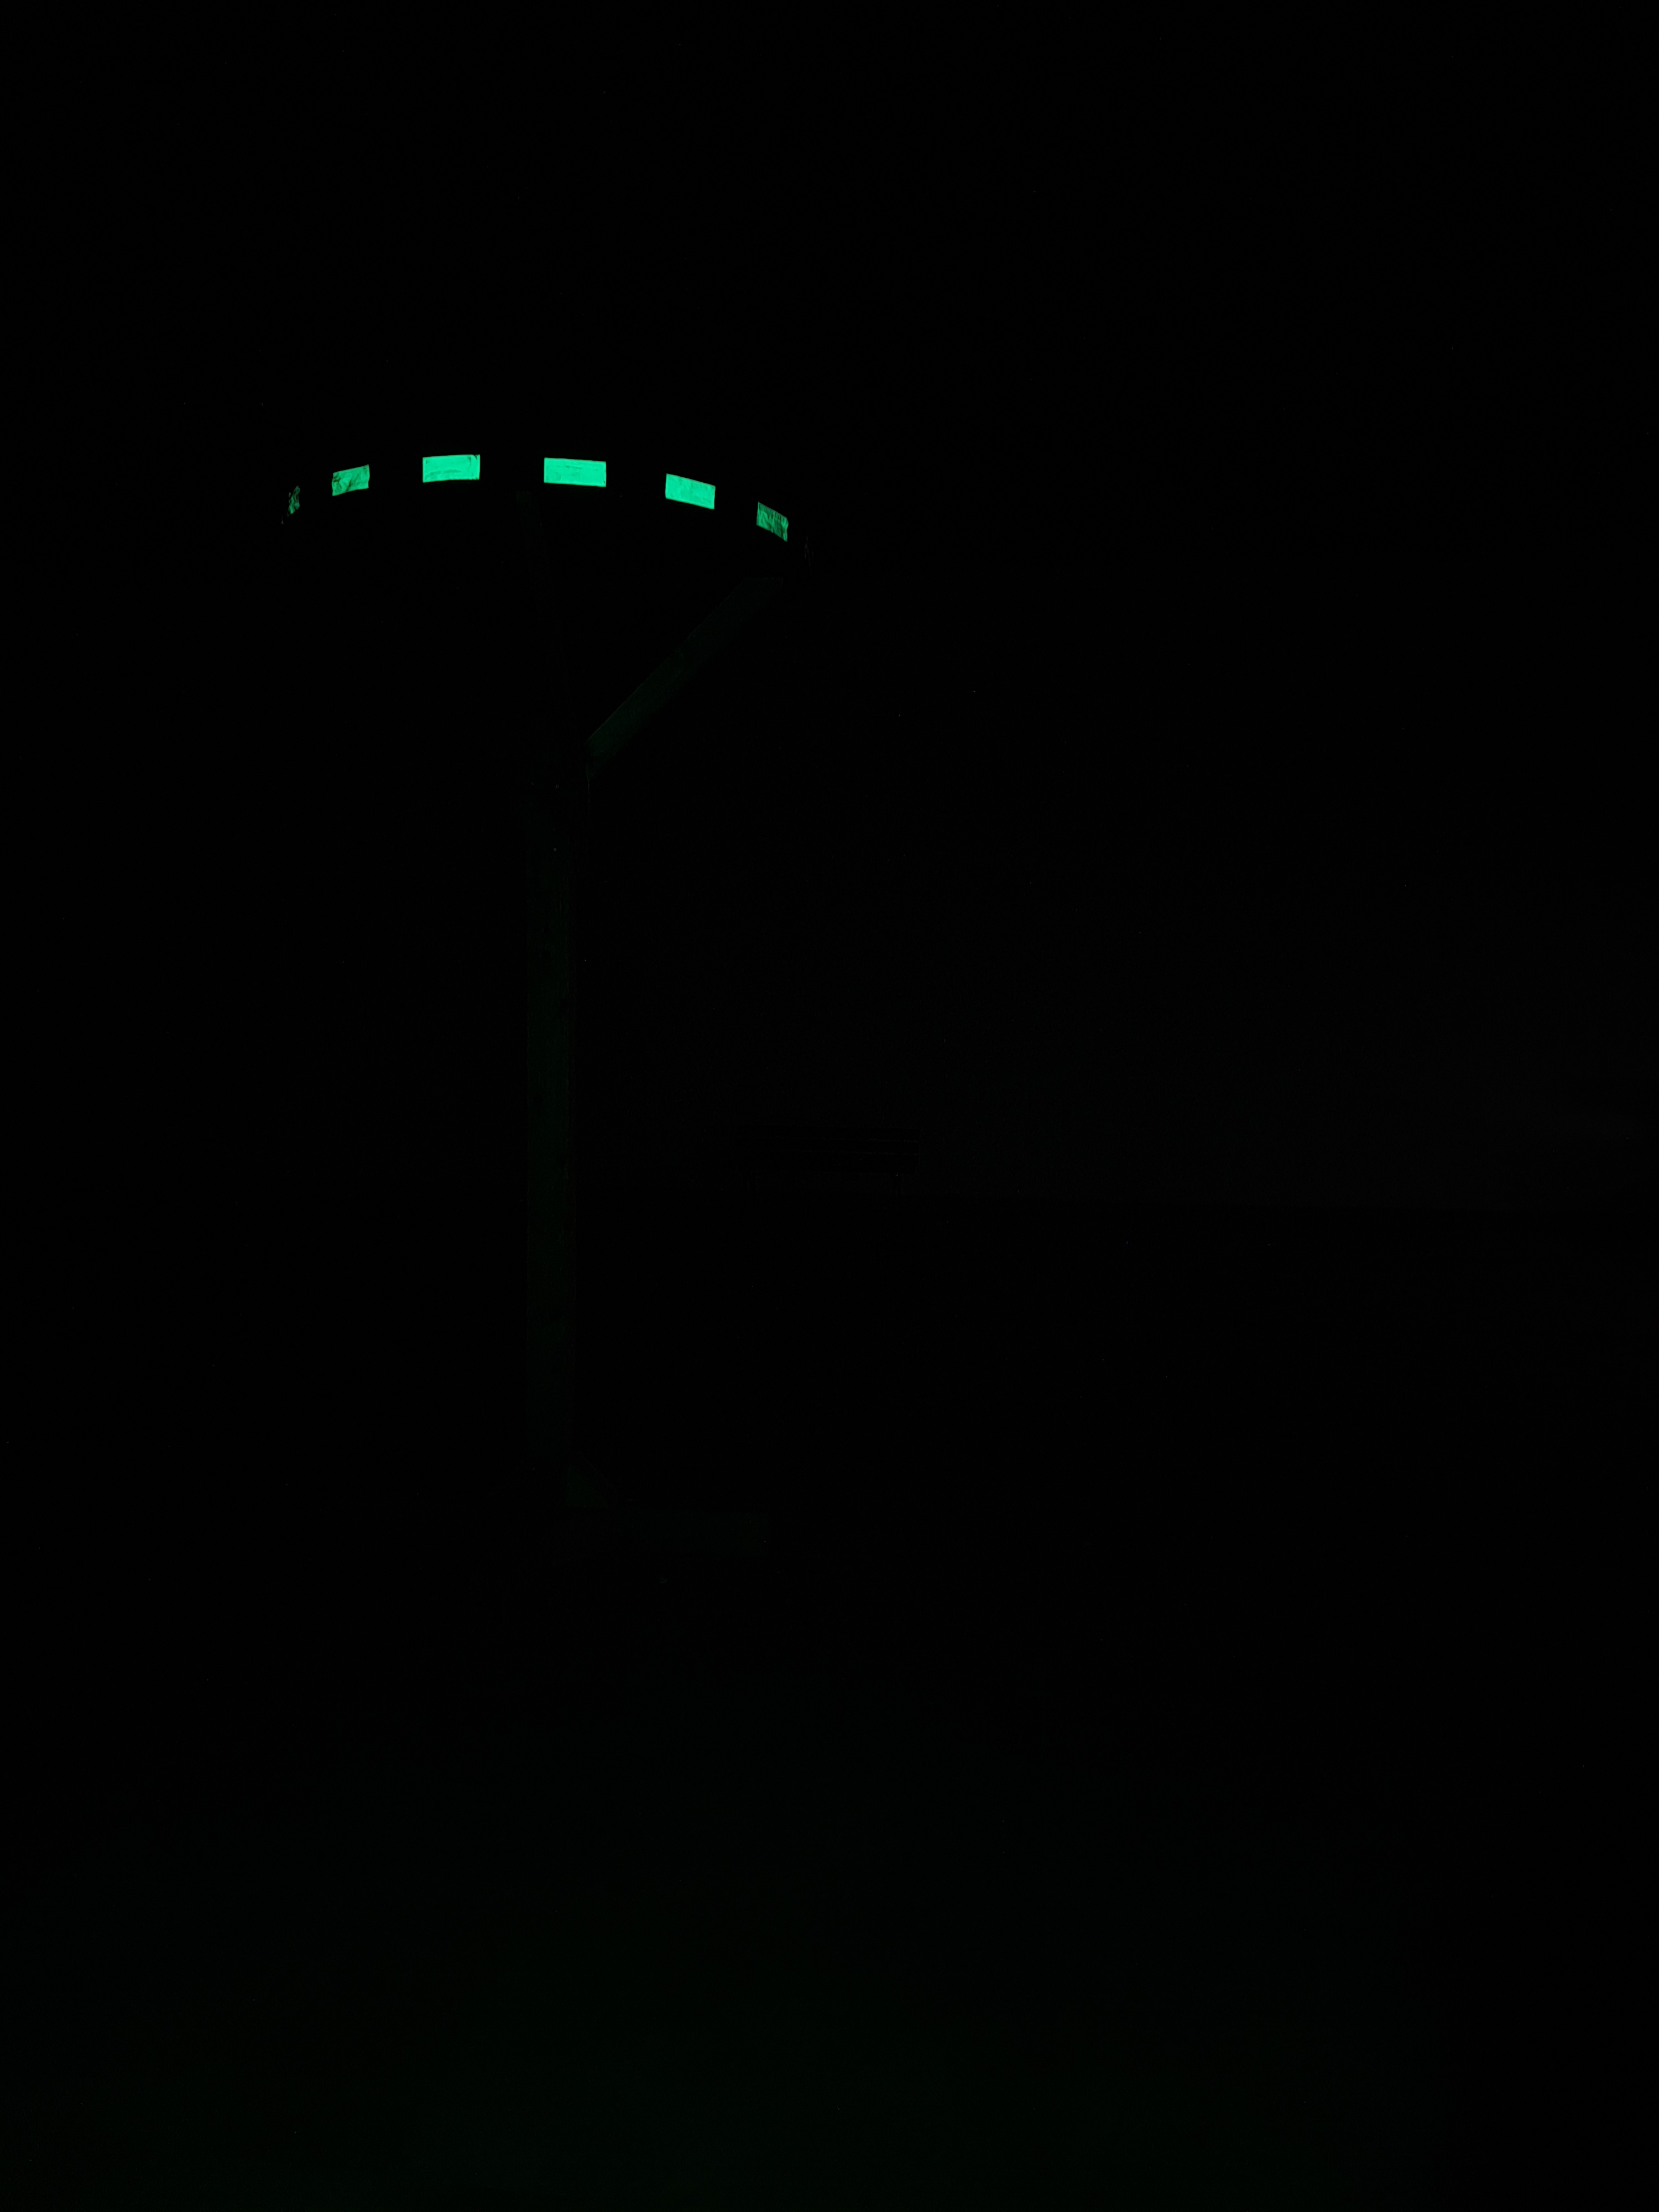hoop: (275, 442, 795, 556)
